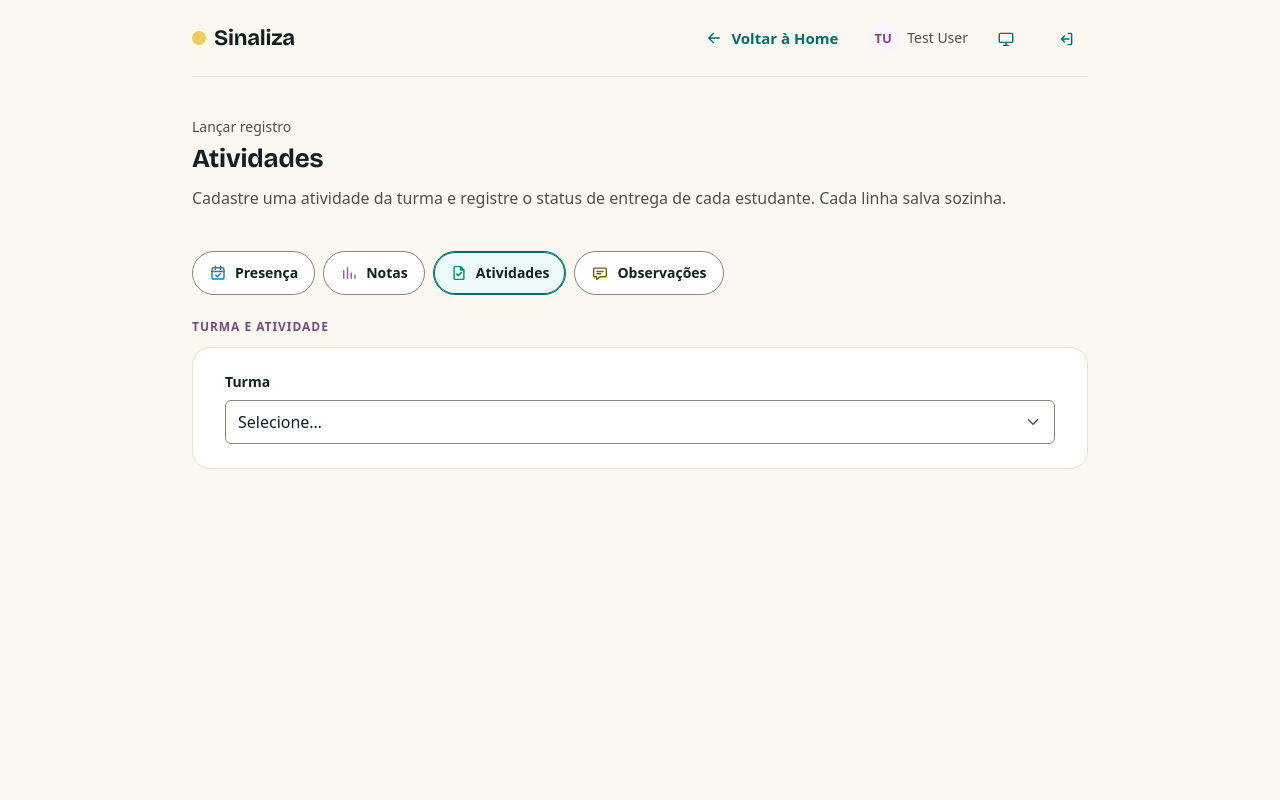
Test: Atividades — cadastro de atividade e registro de status de entrega (Story 1.4) › cadastra uma atividade: POSTs /assignments with the form fields and shows "Atividade cadastrada."
The width and height of the screenshot is (1280, 800).
Select "Turma Teste" in the dropdown labelled "Turma" at (640,422), box x1=238 y1=402 x2=1042 y2=442
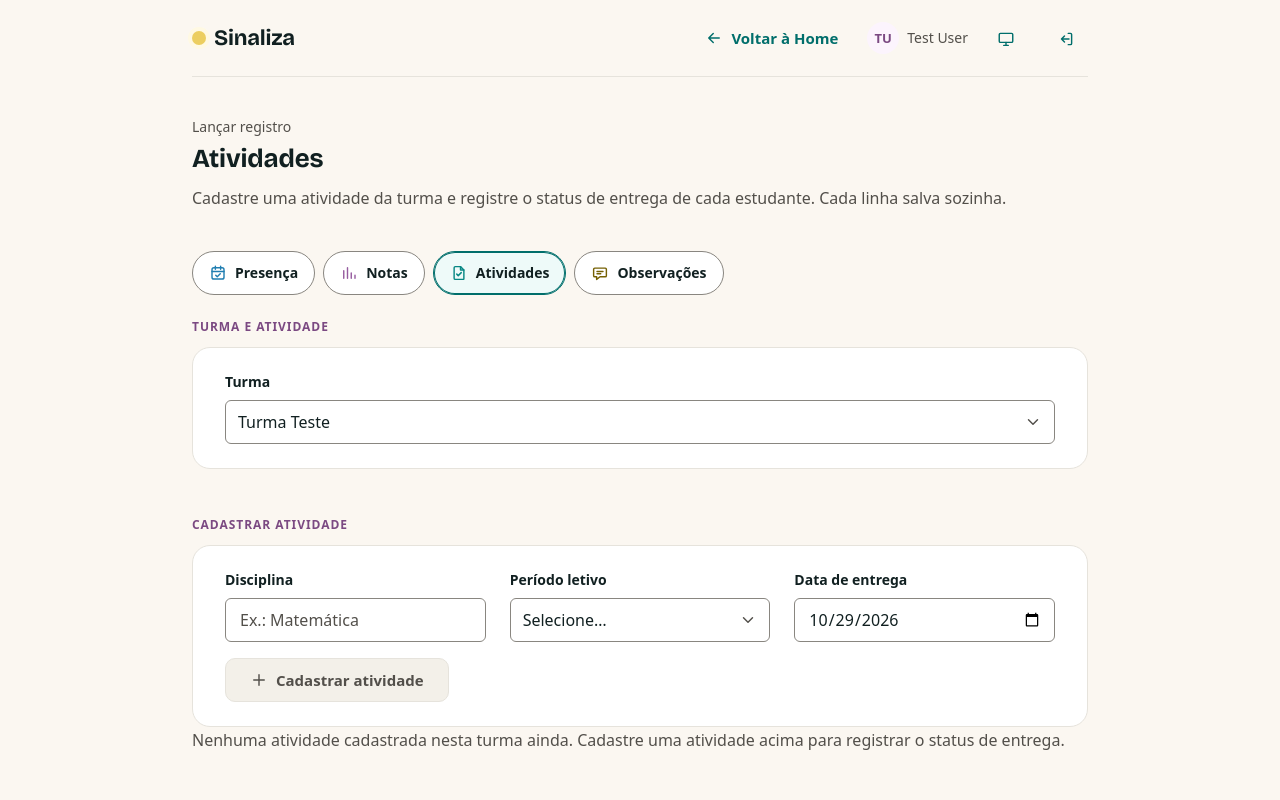
Expected: the field labelled "Disciplina" is shown
Type "Matemática" into the field labelled "Disciplina" at (355,620), box x1=238 y1=600 x2=473 y2=640
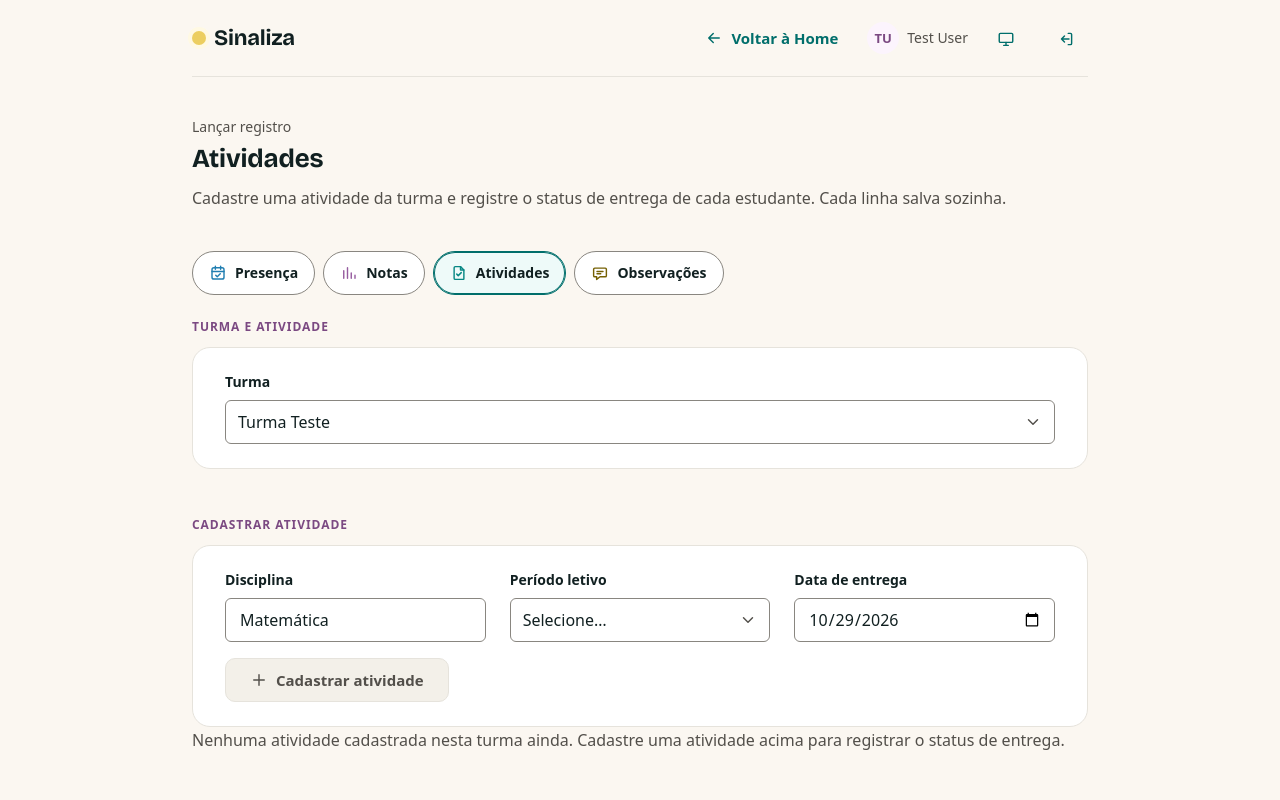
Select "3º Bimestre" in the dropdown labelled "Período letivo" at (640,620), box x1=523 y1=600 x2=757 y2=640
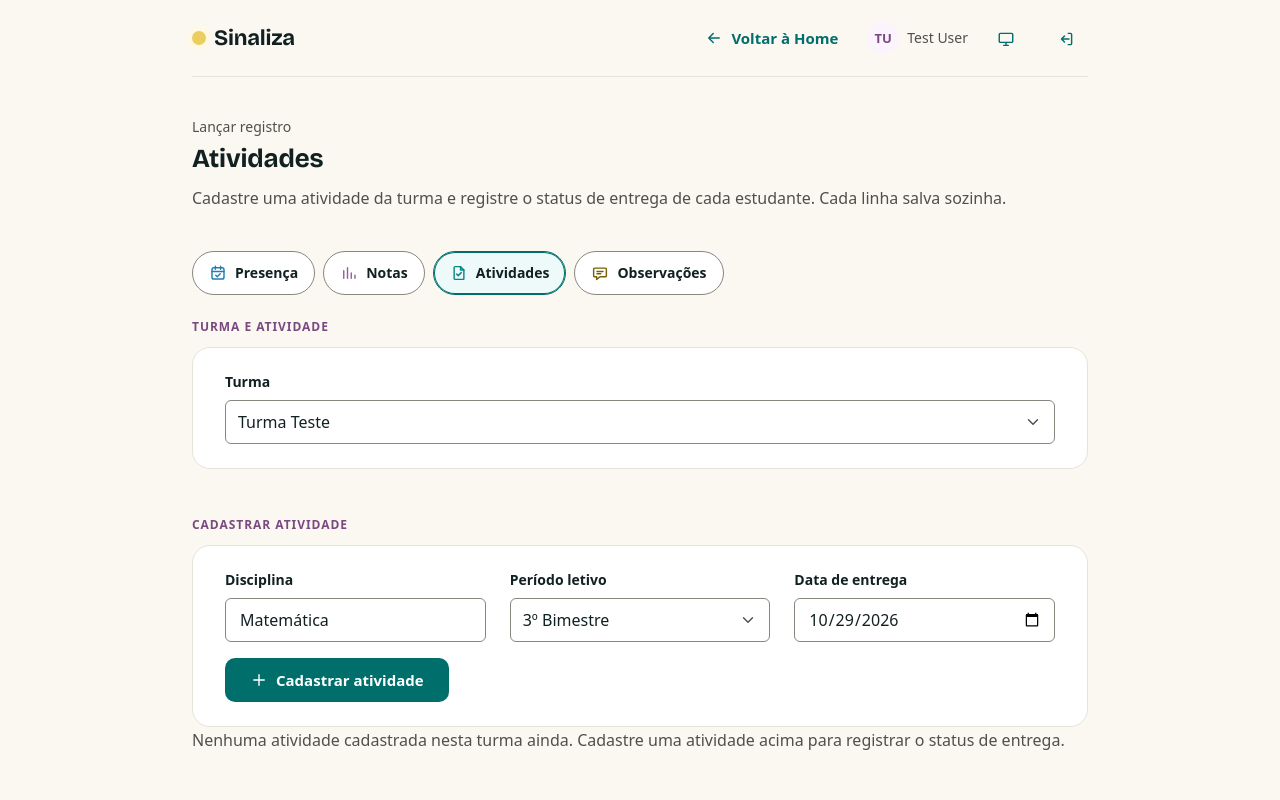
Type "2026-09-30" into the date field labelled "Data de entrega" at (925,620), box x1=807 y1=600 x2=1042 y2=640
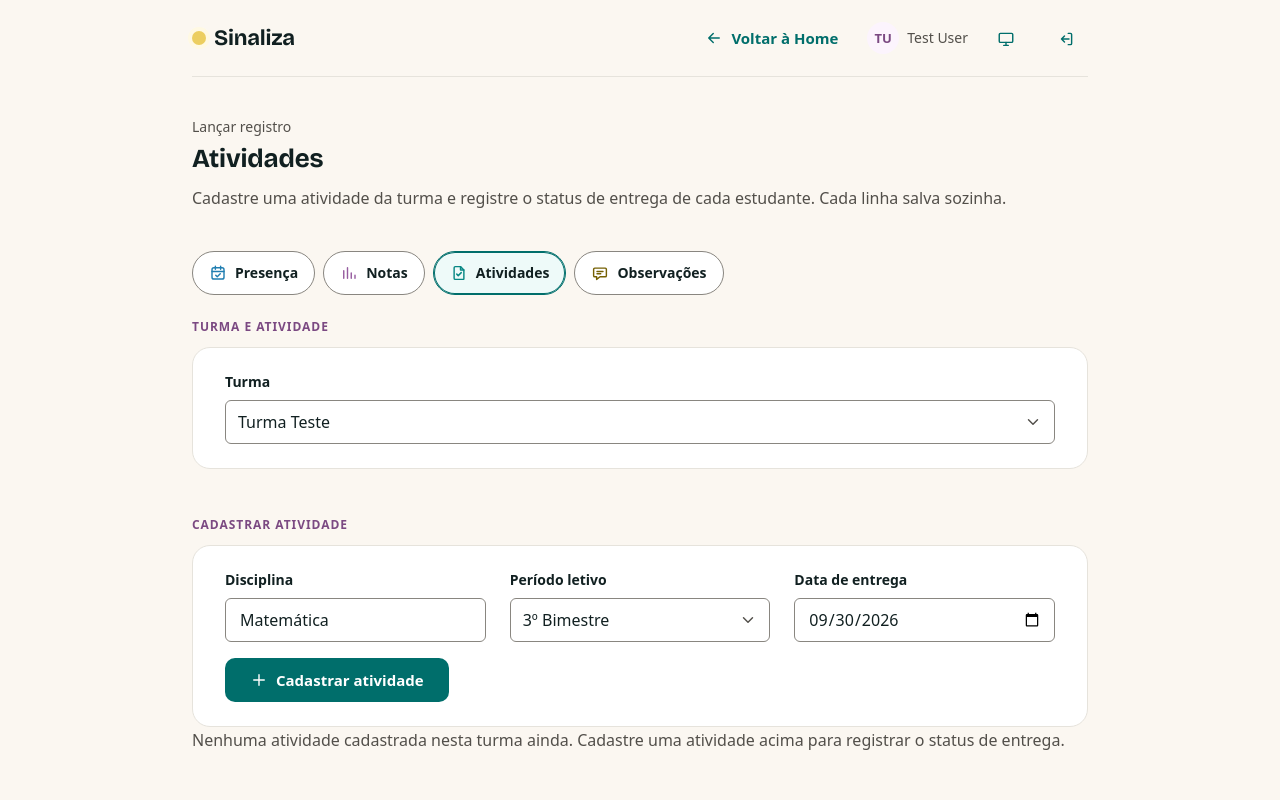
Expected: the button "Cadastrar atividade" is enabled
Click the button "Cadastrar atividade" at (337,680), box x1=225 y1=658 x2=449 y2=702
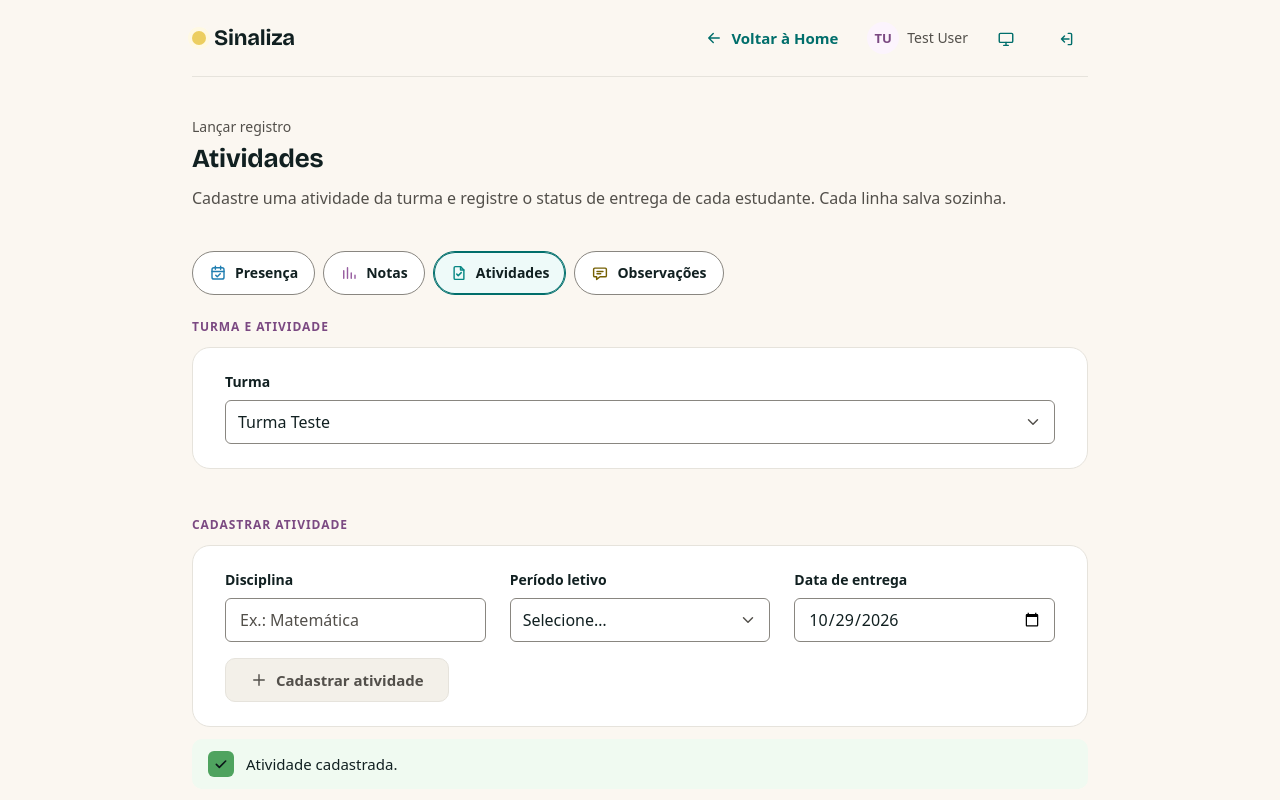
Expected: the text "Atividade cadastrada." is shown, x1=246 y1=754 x2=397 y2=774
